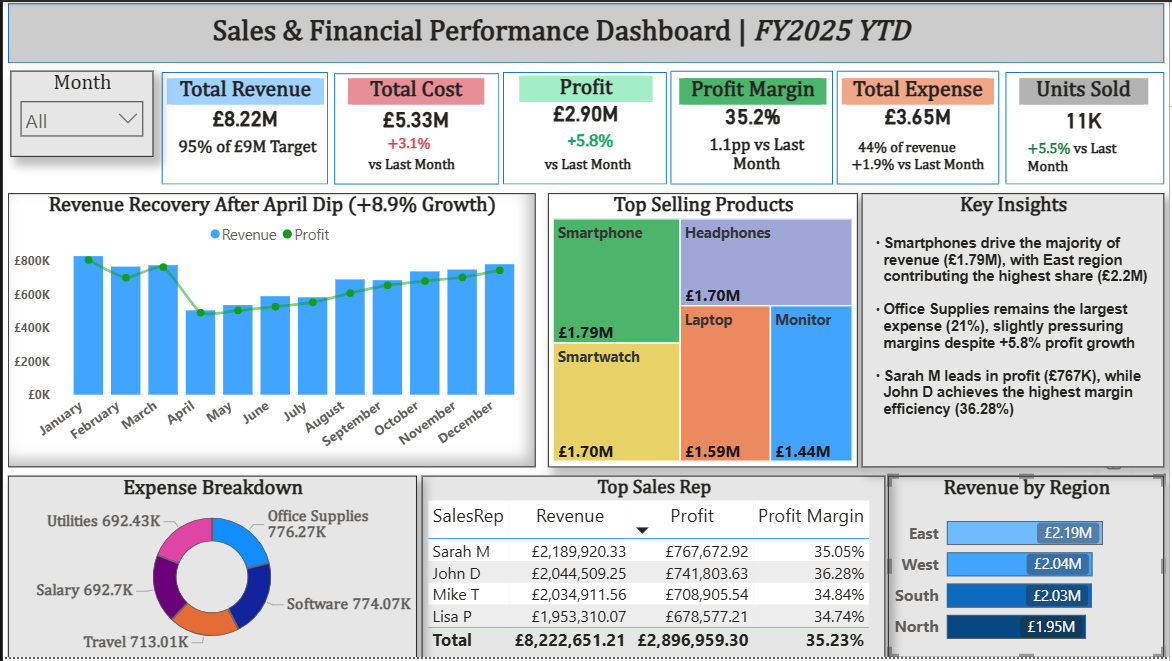

The dashboard page shown, as its layout file describes it:
{"tool":"powerbi","page":{"name":"Page 1","canvas":[1280,720],"ordinal":0},"visuals":[{"type":"group","id":"g1","title":"Group 1","box":[5.5,1.4,1269.3,65.9],"z":0},{"type":"shape","box":[5.5,1.4,1269.3,65.9],"z":0,"group":"g1"},{"type":"shape","box":[915.3,75.5,178.4,124.9],"z":0,"group":"g12"},{"type":"shape","box":[548.9,76.8,179.8,123.5],"z":0,"group":"g13"},{"type":"shape","box":[1100.5,76.8,174.3,123.5],"z":0,"group":"g14"},{"type":"shape","box":[363.6,78.2,181.1,122.1],"z":0,"group":"g16"},{"type":"textbox","box":[21.4,10,1181.8,52.1],"z":1000,"group":"g1"},{"type":"shape","box":[174.3,76.8,182.5,123.5],"z":1000,"group":"g15"},{"type":"card","title":"Profit","fields":{"Values":["Sales.Total Profit"]},"box":[566.5,80.4,146.6,58.8],"z":1000,"group":"g13"},{"type":"card","title":"Total Cost","fields":{"Values":["Sales.Total Cost"]},"box":[379.2,84.1,149.6,66.6],"z":1000,"group":"g16"},{"type":"lineClusteredColumnComboChart","title":"Revenue Recovery After April Dip (+8.9% Growth)","fields":{"Y2":["Sum(Sales.Profit)"],"Y":["Sum(Sales.Revenue)"],"Category":["Sales.Date.Variation.Date Hierarchy.Month"]},"box":[5.5,209.9,579.1,300.5],"z":1000},{"type":"shape","box":[732.8,75.5,178.4,124.9],"z":2000,"group":"g9"},{"type":"card","title":"Units Sold","fields":{"Values":["Sales.Unit sold"]},"box":[1116.3,83.2,141.3,67.9],"z":2000,"group":"g14"},{"type":"card","title":"Total Expense","fields":{"Values":["Expense.Total Expense"]},"box":[920.4,83.7,167.4,59.9],"z":2000,"group":"g12"},{"type":"textbox","box":[598.5,136,89.2,32.9],"z":2000,"group":"g13"},{"type":"textbox","box":[417.6,140.8,71.4,32.1],"z":2000,"group":"g16"},{"type":"treemap","title":"Top Selling Products","fields":{"Group":["Sales.Product"],"Values":["Sum(Sales.Revenue)"]},"box":[598.3,209.9,340.3,300.5],"z":2000},{"type":"card","title":"Total Revenue","fields":{"Values":["Sales.Total Revenue"]},"box":[179.4,83.3,172.9,64.3],"z":3000,"group":"g15"},{"type":"textbox","box":[381.9,164.4,134.5,28.8],"z":3000,"group":"g16"},{"type":"textbox","box":[584.7,164.8,115.3,31.6],"z":3000,"group":"g13"},{"type":"clusteredBarChart","title":"Revenue by Region","fields":{"Category":["Sales.Region"],"Y":["Sum(Sales.Revenue)"]},"box":[971.5,520.1,303.3,200.3],"z":3000},{"type":"group","id":"g2","title":"Group 2","box":[174.3,76.8,182.5,123.5],"z":4000},{"type":"group","id":"g3","title":"Group 3","box":[363.6,78.2,181.1,122.1],"z":5000},{"type":"card","title":"Profit Margin","fields":{"Values":["Sales.Profit Margin"]},"box":[741.7,83.6,161.9,59.3],"z":5000,"group":"g9"},{"type":"group","id":"g4","title":"Group 4","box":[548.9,76.8,179.8,123.5],"z":6000},{"type":"group","id":"g5","title":"Group 8","box":[732.8,75.5,178.4,124.9],"z":7000},{"type":"group","id":"g6","title":"Group 9","box":[915.3,75.5,178.4,124.9],"z":8000},{"type":"group","id":"g7","title":"Group 9","box":[1100.5,76.8,174.3,123.5],"z":9000},{"type":"tableEx","title":"Top Sales Rep","fields":{"Values":["Sales.SalesRep","Sales.Total Revenue","Sum(Sales.Profit)","Sales.Profit Margin"]},"box":[459.7,520.1,509.1,200.3],"z":11000},{"type":"textbox","title":"Key Insights","box":[942.7,209.9,332.1,300.5],"z":12000},{"type":"slicer","title":"Month","fields":{"Values":["Sales.Date.Variation.Date Hierarchy.Month"]},"box":[8.2,75.5,156.4,94.7],"z":13000},{"type":"donutChart","title":"Expense Breakdown","fields":{"Category":["Expense.Expense Category"],"Y":["Sum(Expense.Amount)"]},"box":[5.5,520.1,448.7,200.3],"z":14000},{"type":"group","id":"g8","title":"Group 13","box":[732.8,75.5,178.4,124.9],"z":14001,"group":"g5"},{"type":"group","id":"g9","title":"Group 14","box":[732.8,75.5,178.4,124.9],"z":14001,"group":"g8"},{"type":"group","id":"g10","title":"Group 11","box":[915.3,75.5,178.4,124.9],"z":14001,"group":"g6"},{"type":"group","id":"g11","title":"Group 12","box":[915.3,75.5,178.4,124.9],"z":14001,"group":"g10"},{"type":"group","id":"g12","title":"Group 15","box":[915.3,75.5,178.4,124.9],"z":14001,"group":"g11"},{"type":"group","id":"g13","title":"Group 7","box":[548.9,76.8,179.8,123.5],"z":14001,"group":"g4"},{"type":"textbox","box":[176.7,144.3,175.6,53.5],"z":15000,"group":"g15"},{"type":"textbox","box":[920.1,145.7,167.4,49.9],"z":16000,"group":"g12"},{"type":"textbox","box":[1120.4,147.1,141.3,50.6],"z":16000,"group":"g14"},{"type":"group","id":"g14","title":"Group 10","box":[1100.5,76.8,174.3,123.5],"z":16003,"group":"g7"},{"type":"textbox","box":[749.6,140.7,156.4,53.5],"z":17000,"group":"g9"},{"type":"group","id":"g15","title":"Group 5","box":[174.3,76.8,182.5,123.5],"z":18001,"group":"g2"},{"type":"group","id":"g16","title":"Group 6","box":[363.6,78.2,181.1,122.1],"z":18001,"group":"g3"}]}

Visuals, with their boxes in screenshot pixels (x1, y1, x2, y2), scaled from the page's 1280x720 canvas onto the 1172x661 screenshot:
"Group 1" group: detection(5, 1, 1167, 62)
shape: detection(5, 1, 1167, 62)
shape: detection(838, 69, 1001, 184)
shape: detection(503, 71, 667, 184)
shape: detection(1008, 71, 1167, 184)
shape: detection(333, 72, 499, 184)
textbox: detection(20, 9, 1102, 57)
shape: detection(160, 71, 327, 184)
"Profit" card: detection(519, 74, 653, 128)
"Total Cost" card: detection(347, 77, 484, 138)
"Revenue Recovery After April Dip (+8.9% Growth)" lineClusteredColumnComboChart: detection(5, 193, 535, 469)
shape: detection(671, 69, 834, 184)
"Units Sold" card: detection(1022, 76, 1151, 139)
"Total Expense" card: detection(843, 77, 996, 132)
textbox: detection(548, 125, 630, 155)
textbox: detection(382, 129, 448, 159)
"Top Selling Products" treemap: detection(548, 193, 859, 469)
"Total Revenue" card: detection(164, 76, 323, 136)
textbox: detection(350, 151, 473, 177)
textbox: detection(535, 151, 641, 180)
"Revenue by Region" clusteredBarChart: detection(890, 477, 1167, 660)
"Group 2" group: detection(160, 71, 327, 184)
"Group 3" group: detection(333, 72, 499, 184)
"Profit Margin" card: detection(679, 77, 827, 131)
"Group 4" group: detection(503, 71, 667, 184)
"Group 8" group: detection(671, 69, 834, 184)
"Group 9" group: detection(838, 69, 1001, 184)
"Group 9" group: detection(1008, 71, 1167, 184)
"Top Sales Rep" tableEx: detection(421, 477, 887, 660)
"Key Insights" textbox: detection(863, 193, 1167, 469)
"Month" slicer: detection(8, 69, 151, 156)
"Expense Breakdown" donutChart: detection(5, 477, 416, 660)
"Group 13" group: detection(671, 69, 834, 184)
"Group 14" group: detection(671, 69, 834, 184)
"Group 11" group: detection(838, 69, 1001, 184)
"Group 12" group: detection(838, 69, 1001, 184)
"Group 15" group: detection(838, 69, 1001, 184)
"Group 7" group: detection(503, 71, 667, 184)
textbox: detection(162, 132, 323, 182)
textbox: detection(842, 134, 996, 180)
textbox: detection(1026, 135, 1155, 181)
"Group 10" group: detection(1008, 71, 1167, 184)
textbox: detection(686, 129, 830, 178)
"Group 5" group: detection(160, 71, 327, 184)
"Group 6" group: detection(333, 72, 499, 184)
